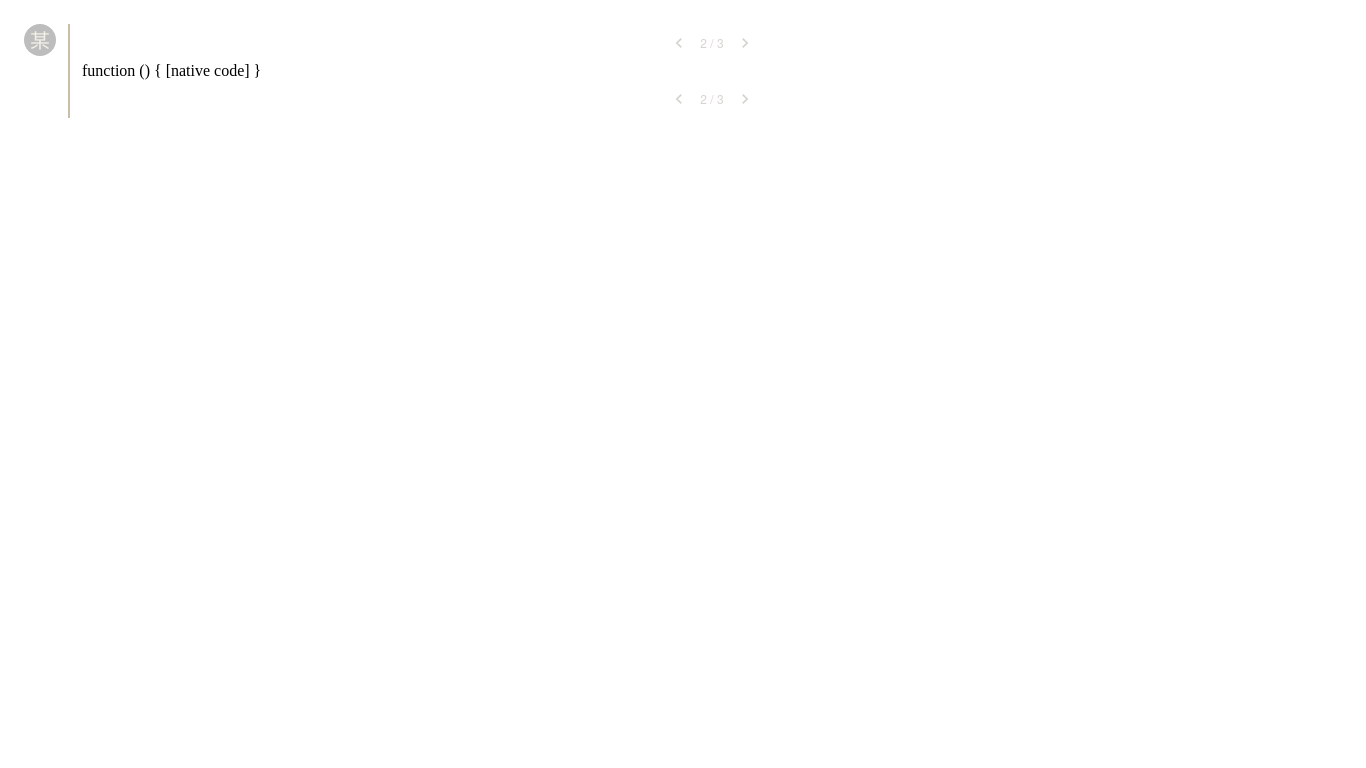
SwipeBar › 在清單裡點一則會送出那一則的 index，並把層關掉
The image size is (1366, 768).
Click the button named "全部 3 個候選（訊息下方）" at [712, 99], box [694,87,730,111]
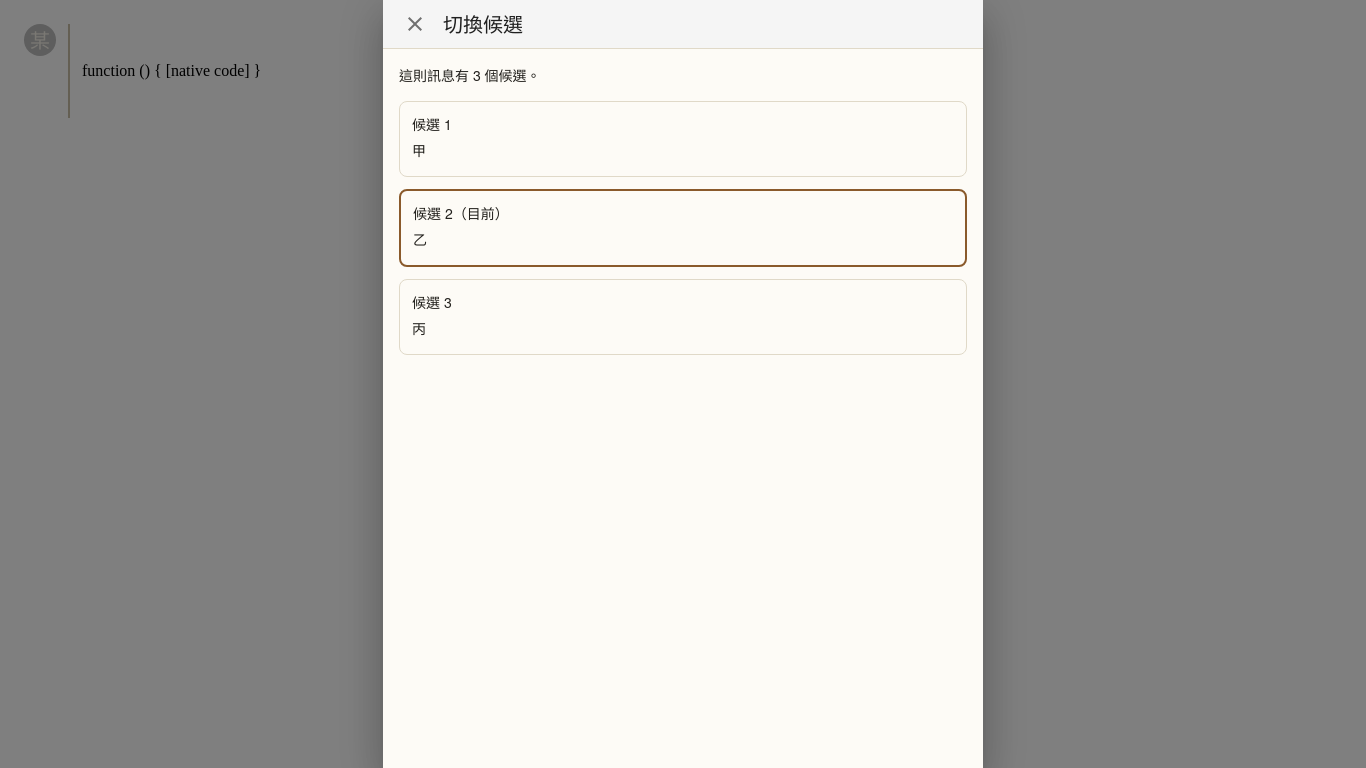
Click the text "丙" at [419, 328], box [412,318,426,338]
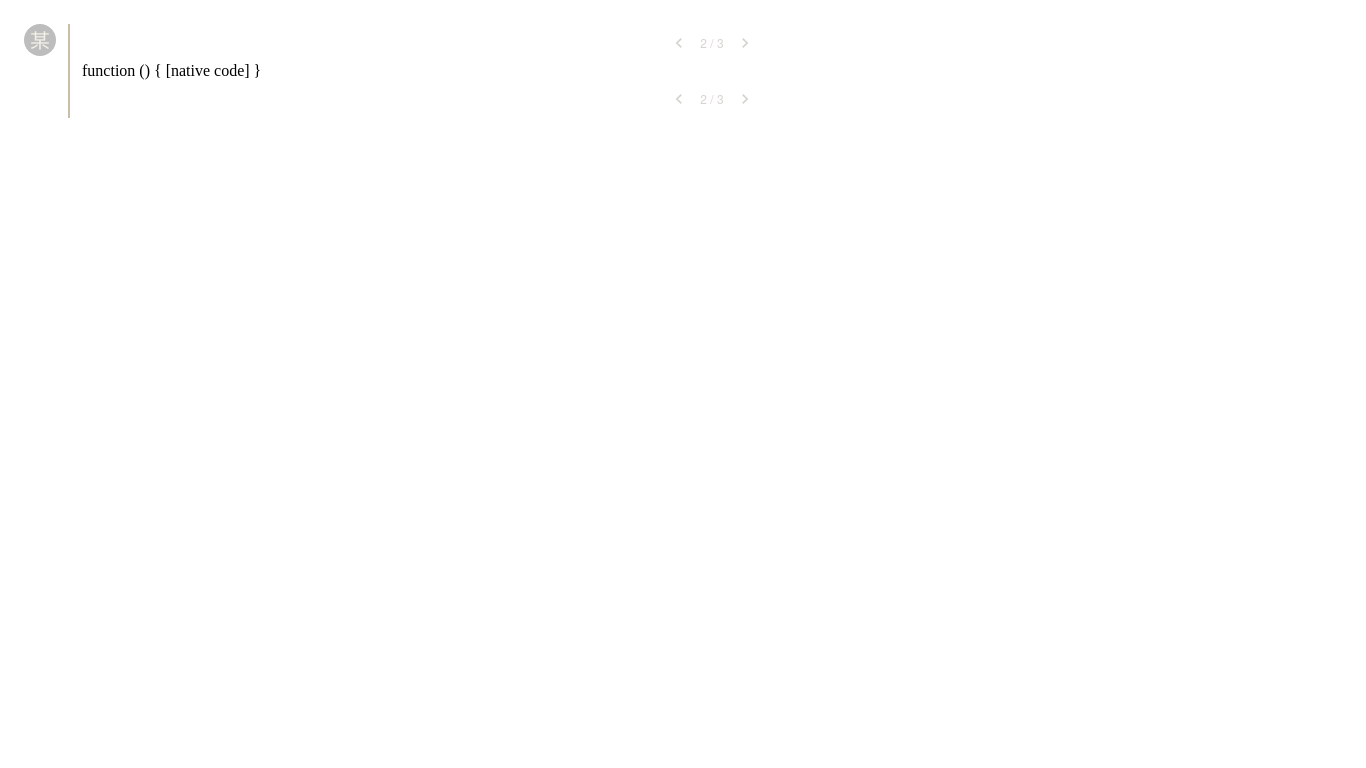
Expected: the heading "切換候選" is gone
